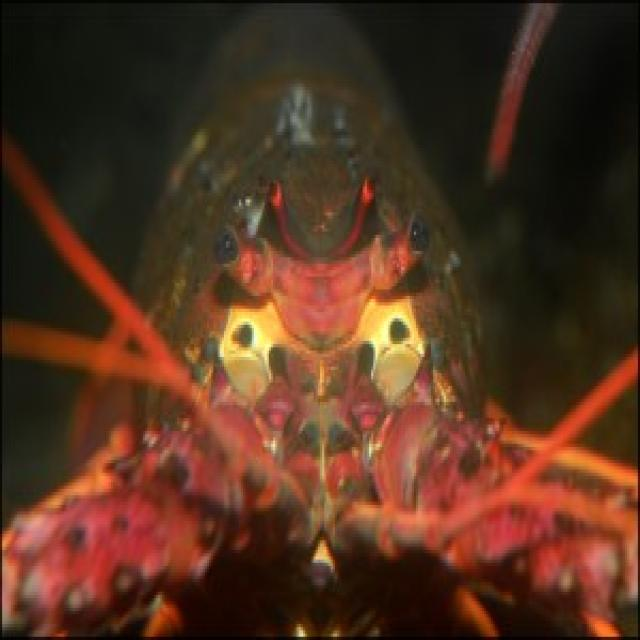lobsters: (27, 0, 638, 627)
